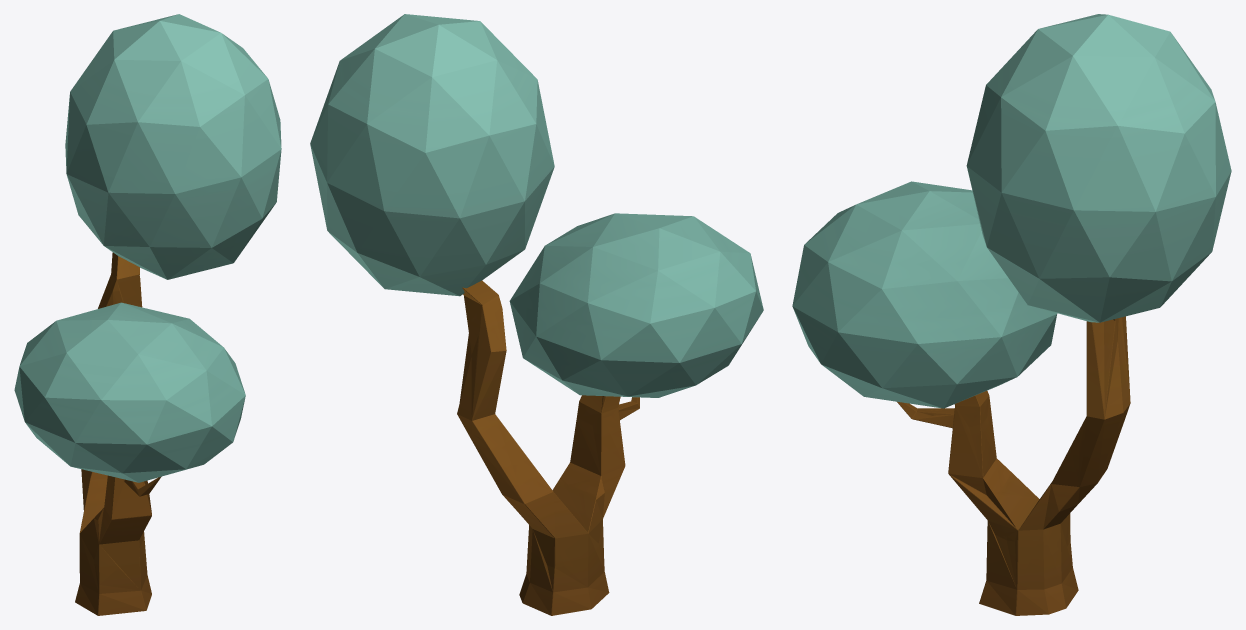
Rendered from tree_twin.glb.
The picture shows the model from 3 angles, left to right: view 1: azimuth 30°, elevation 25°; view 2: azimuth 150°, elevation 25°; view 3: azimuth 270°, elevation 25°; orthographic projection. The views are drawn at different scales.
Parts seen in each view (by area): view 1: Tree_9_AA; view 2: Tree_9_AA; view 3: Tree_9_AA.
Boxes of the visible parts, bbox=[...] form: Tree_9_AA: bbox=[14, 14, 281, 615]; Tree_9_AA: bbox=[310, 14, 763, 615]; Tree_9_AA: bbox=[792, 14, 1231, 615].
Size of the model in its own units: 2.11 by 3.43 by 2.17.
Materials: 1 (1 with a texture image).
